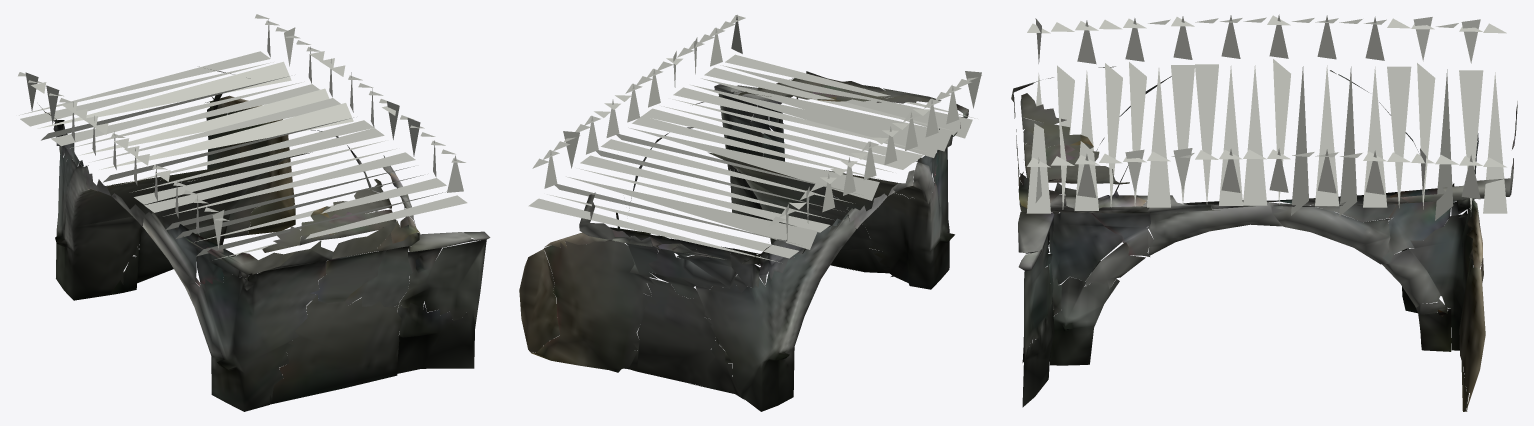
Rendered from preview.glb.
3 views of the same model, side by side, from view 1: azimuth 30°, elevation 25°; view 2: azimuth 150°, elevation 25°; view 3: azimuth 270°, elevation 25° (orthographic). The views are drawn at different scales.
Parts seen in each view (by area): view 1: shichahai/tripo_node_73a5ea1f-aab4-4a2e-8151-6ca56b710039, shichahai/clean-deck; view 2: shichahai/tripo_node_73a5ea1f-aab4-4a2e-8151-6ca56b710039, shichahai/clean-deck; view 3: shichahai/tripo_node_73a5ea1f-aab4-4a2e-8151-6ca56b710039, shichahai/clean-deck.
Part boxes in pixels (x1,y1,x2,y2): shichahai/tripo_node_73a5ea1f-aab4-4a2e-8151-6ca56b710039: (39, 66, 490, 411); shichahai/clean-deck: (18, 14, 467, 259); shichahai/tripo_node_73a5ea1f-aab4-4a2e-8151-6ca56b710039: (519, 71, 968, 411); shichahai/clean-deck: (528, 15, 981, 262); shichahai/tripo_node_73a5ea1f-aab4-4a2e-8151-6ca56b710039: (1011, 66, 1517, 411); shichahai/clean-deck: (1026, 14, 1507, 220).
Bounding box in the file's own units: 0.2297 × 0.1755 × 0.3178.
Materials: 2 (1 with a texture image).
